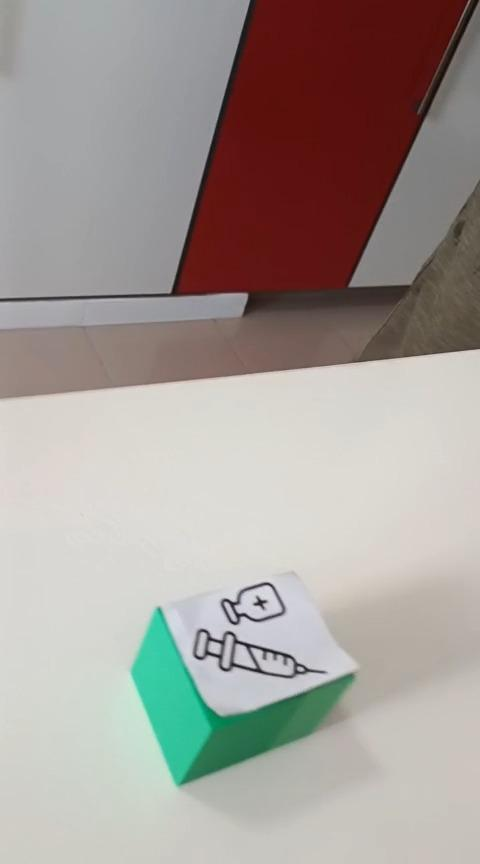antiseptic cream: (129, 567, 360, 786)
